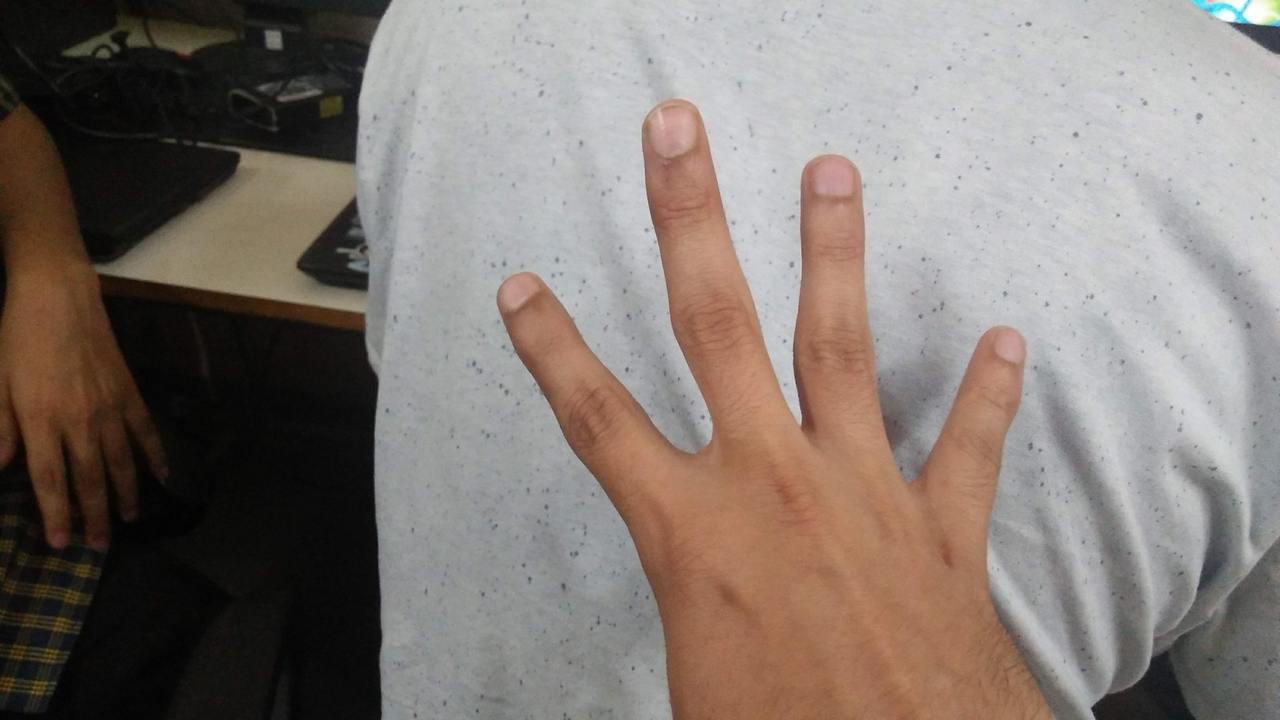fingertip: (638, 94, 714, 160), (488, 268, 564, 330), (796, 154, 868, 214), (974, 326, 1038, 382)
